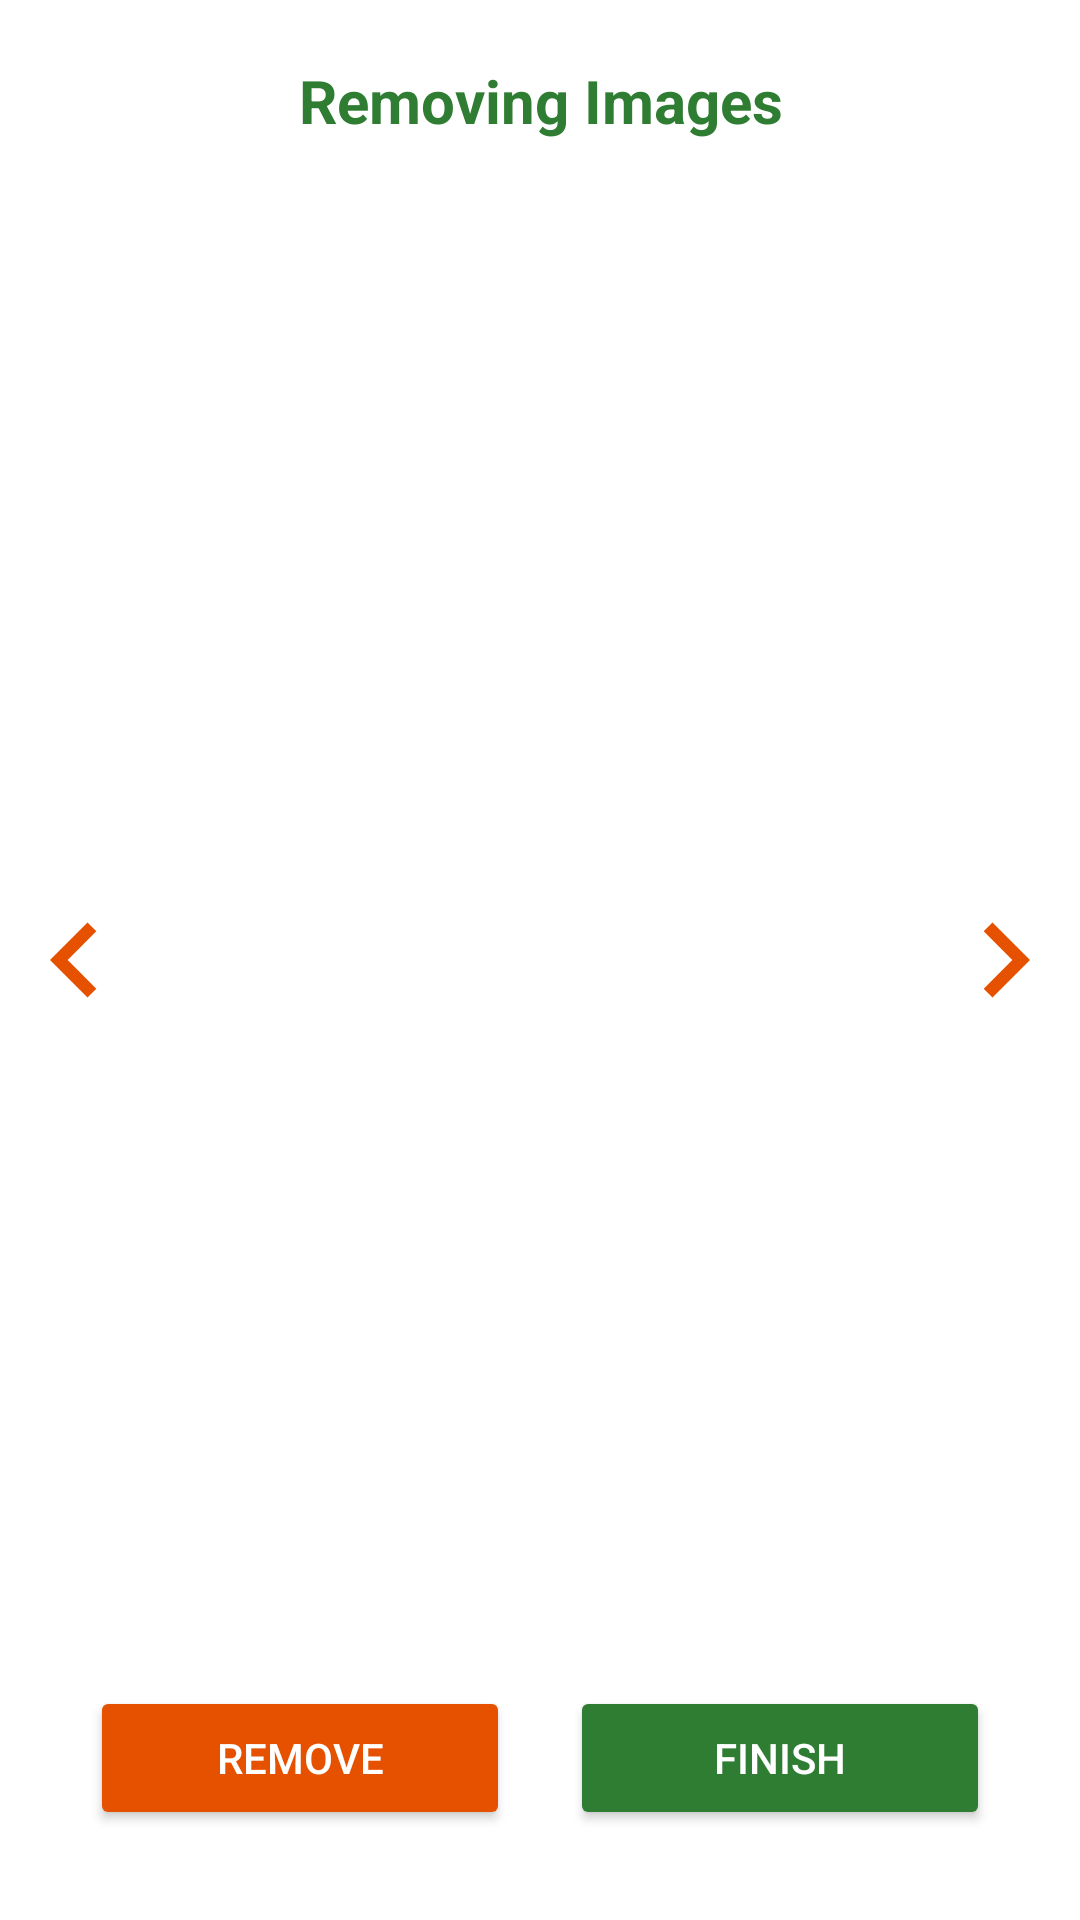

Icons on this 1080×1920 Android screen, each with its box as (x1, y1, x2, y2):
navigate before: (50, 922, 96, 998)
navigate next: (984, 922, 1030, 998)
